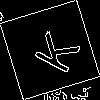K: (25, 25, 81, 76)
